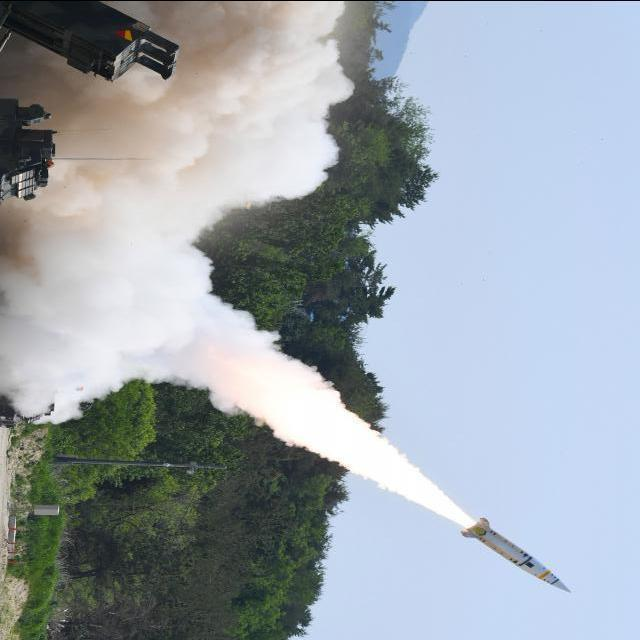missile: (458, 512, 574, 593)
